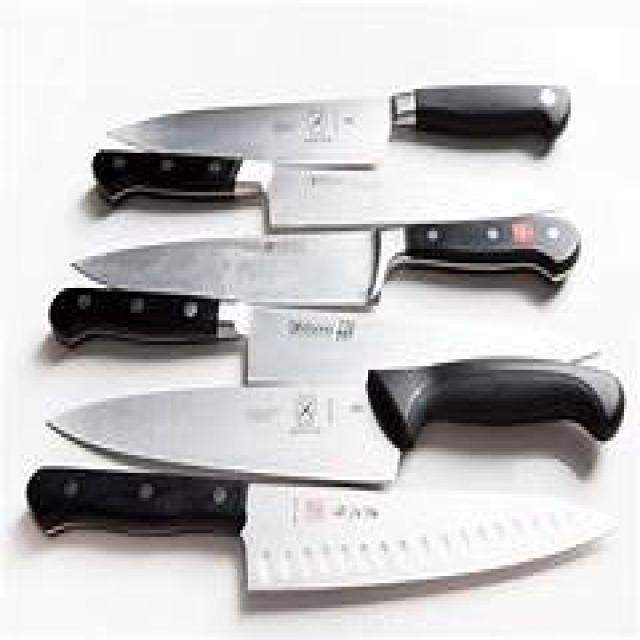Knife: (53, 356, 621, 480), (27, 469, 608, 590), (77, 217, 576, 306), (115, 85, 568, 164)
